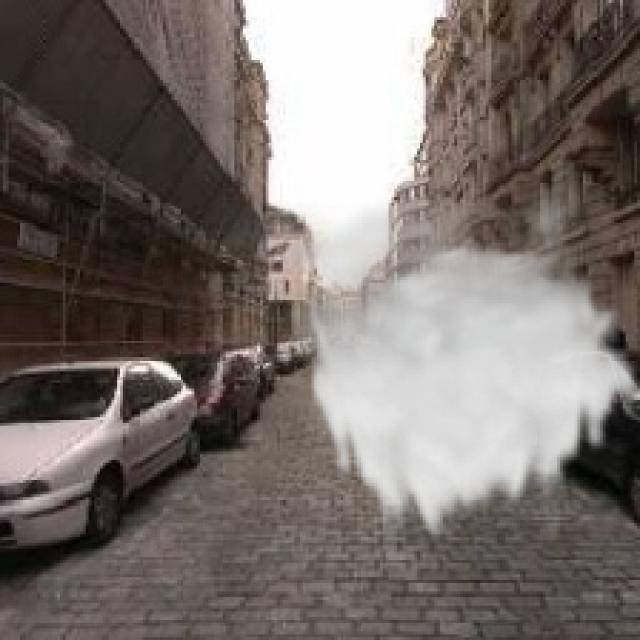Smoke: (237, 172, 637, 548)
